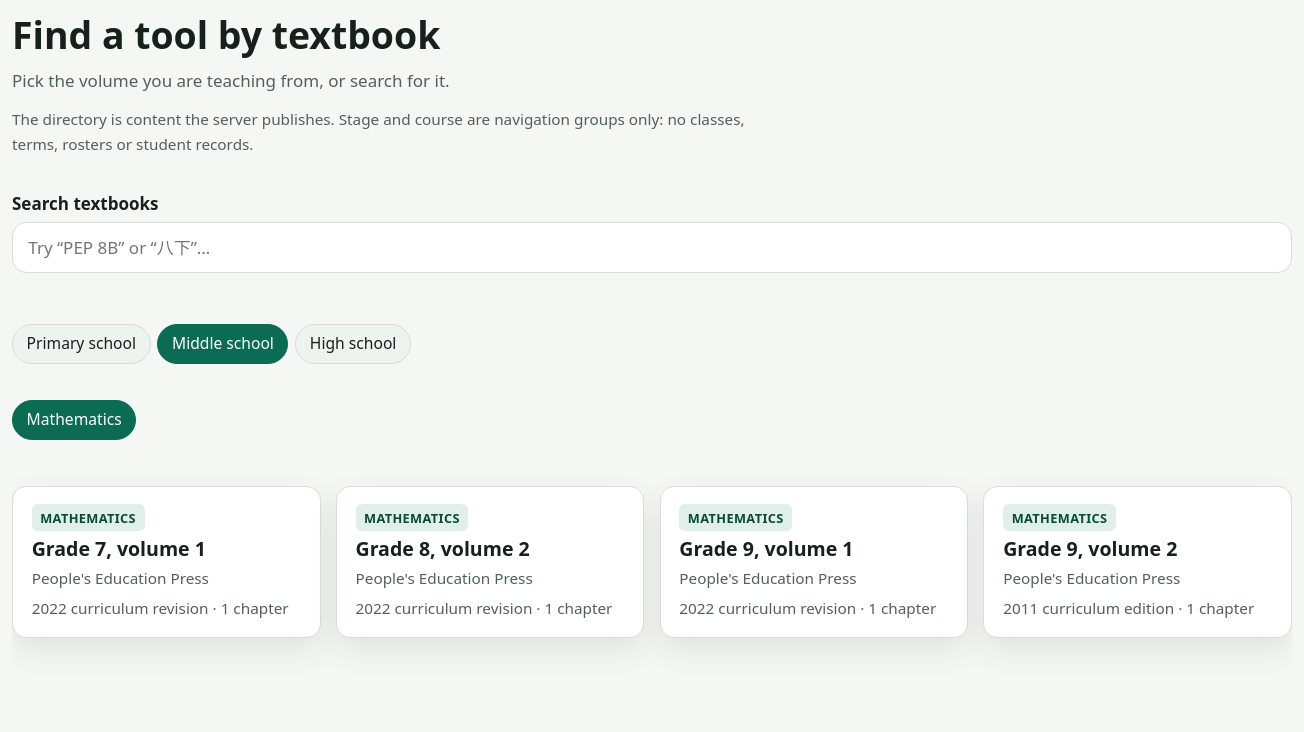
Test: curriculum directory (teacher navigation A) › opens only the chosen volume, with its chapters collapsed
Click the 2nd link at (484, 561), box [356,504,612,618]
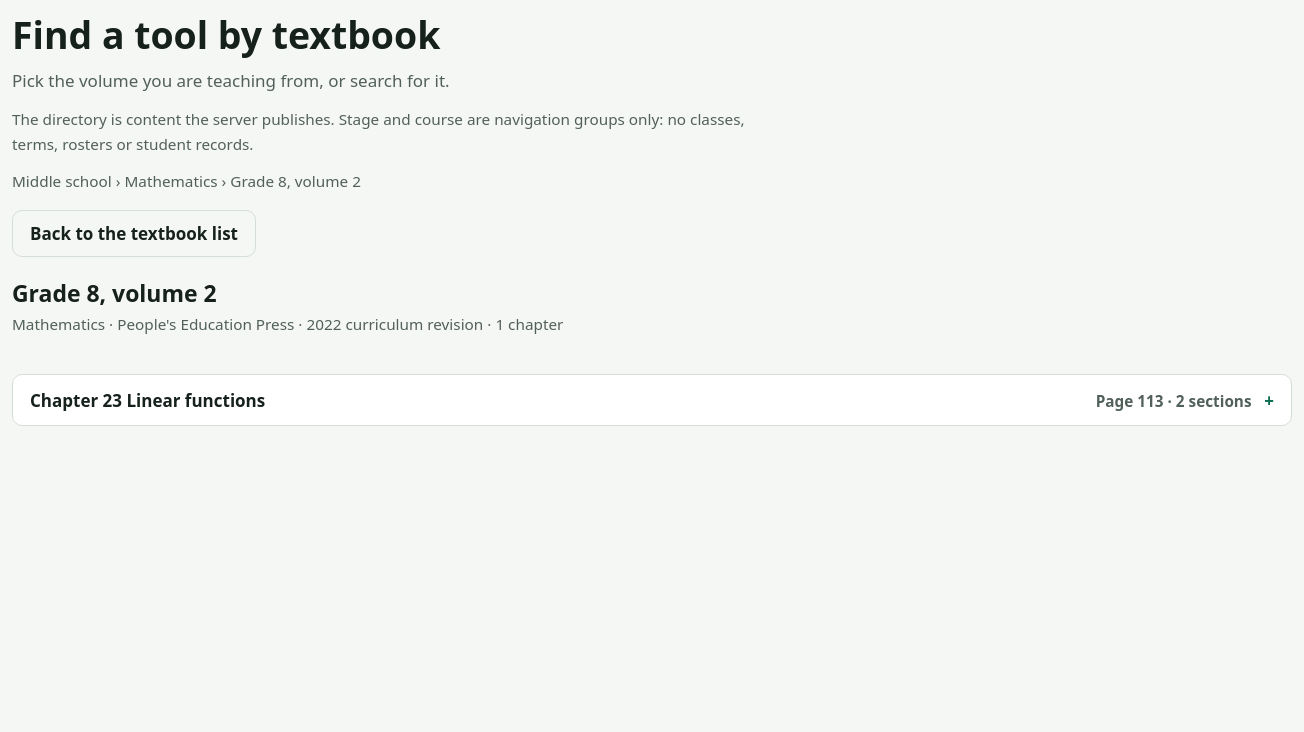
Expected: the list with test id "curriculum-chapters" does not show "Chapter 26 Quadratic functions", [12,374,1292,426]
Expected: the list with test id "curriculum-chapters" shows "Chapter 23 Linear functions", [12,374,1292,426]
